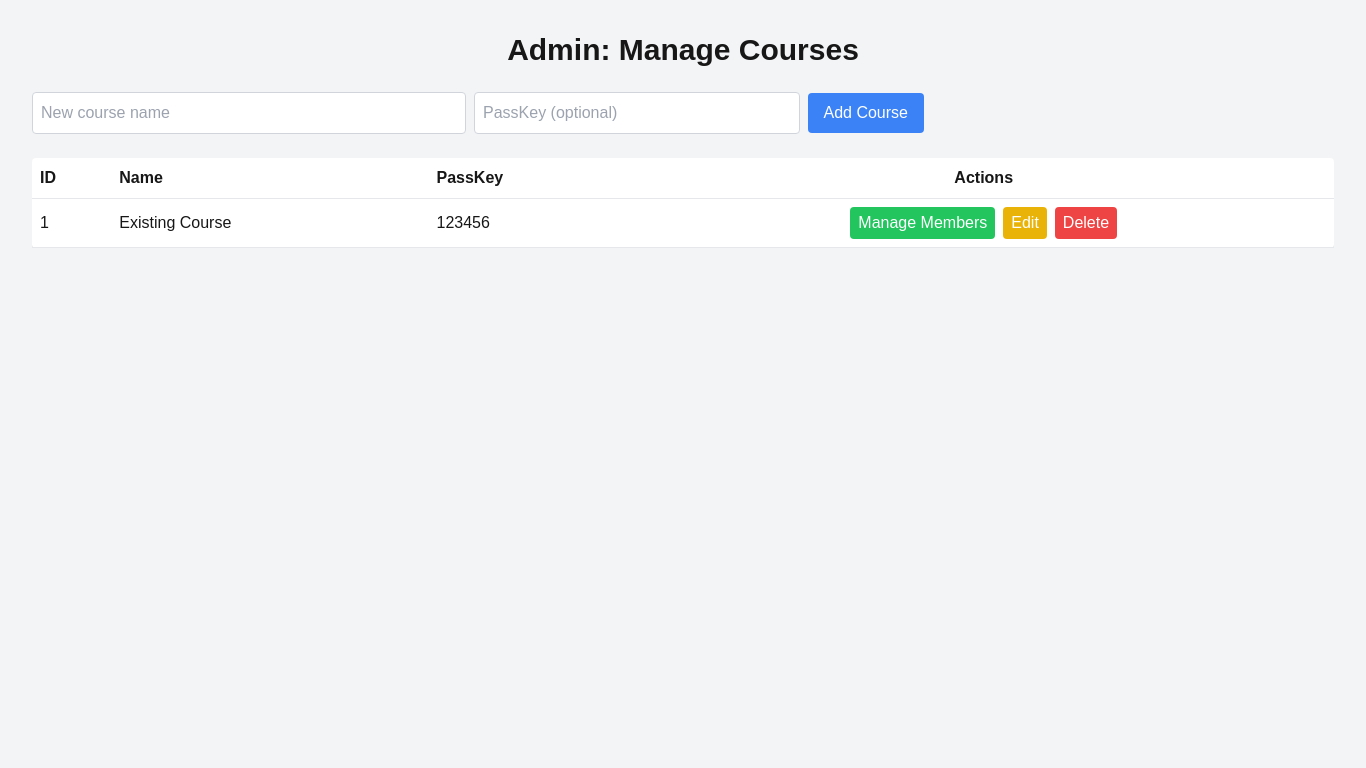
Test: AdminCoursesPage › opens edit modal and updates course
Expected: the text "Existing Course" is shown, [111,198,428,248]
# Open the edit modal
Click the button "Edit": (1025,223) [1003,207,1047,239]
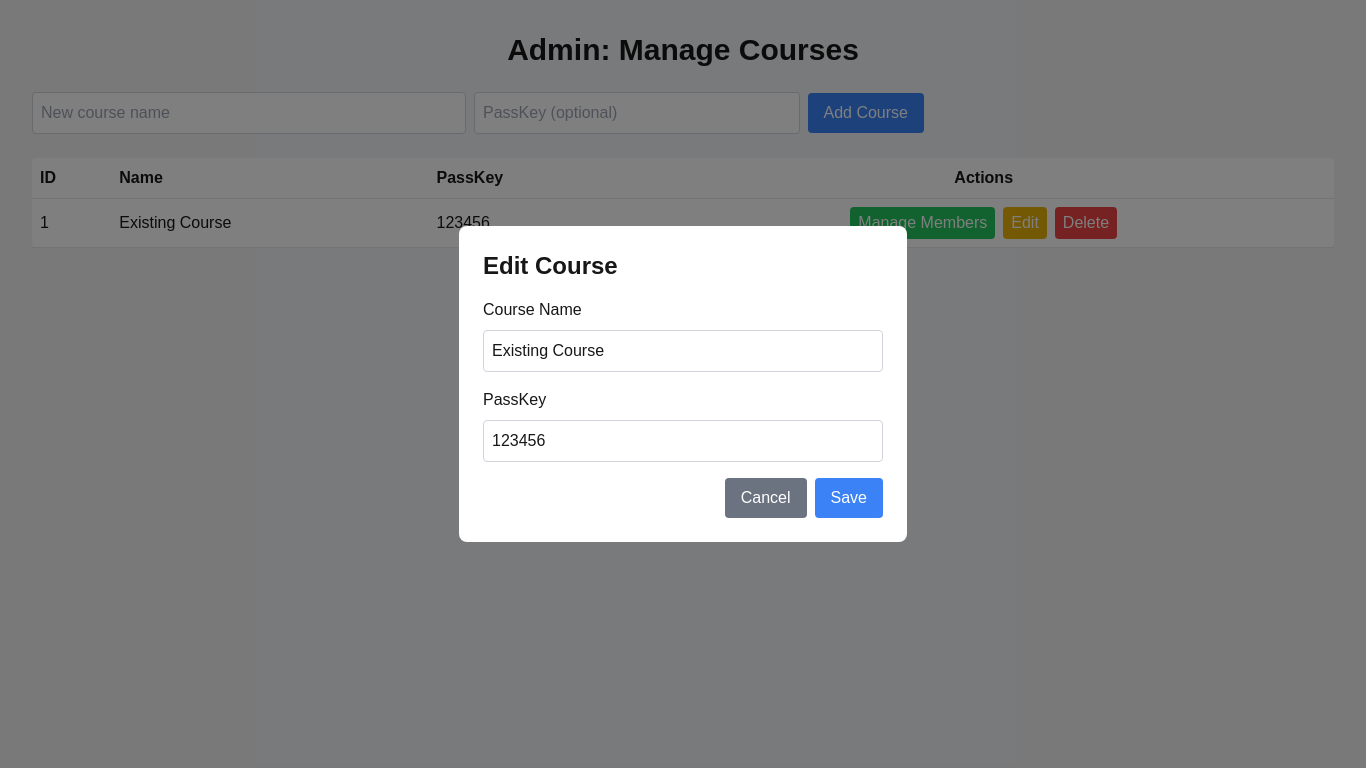
# Update course name and passkey within the modal
Replace the text in the field with placeholder "Course name" below "Course Name" with "Updated Course": (683,351) [483,330,883,372]
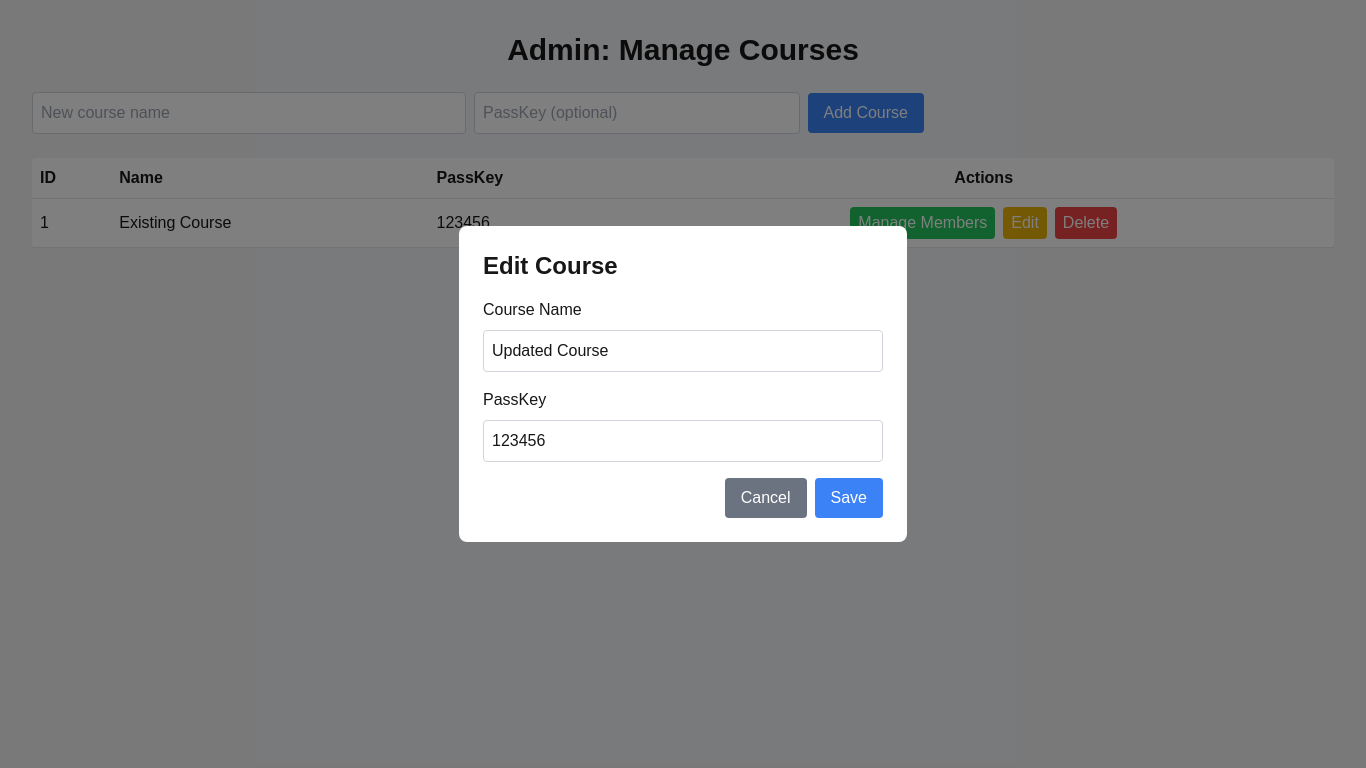
Replace the text in the 2nd field with placeholder "PassKey (optional)" with "654321": (683,441) [483,420,883,462]
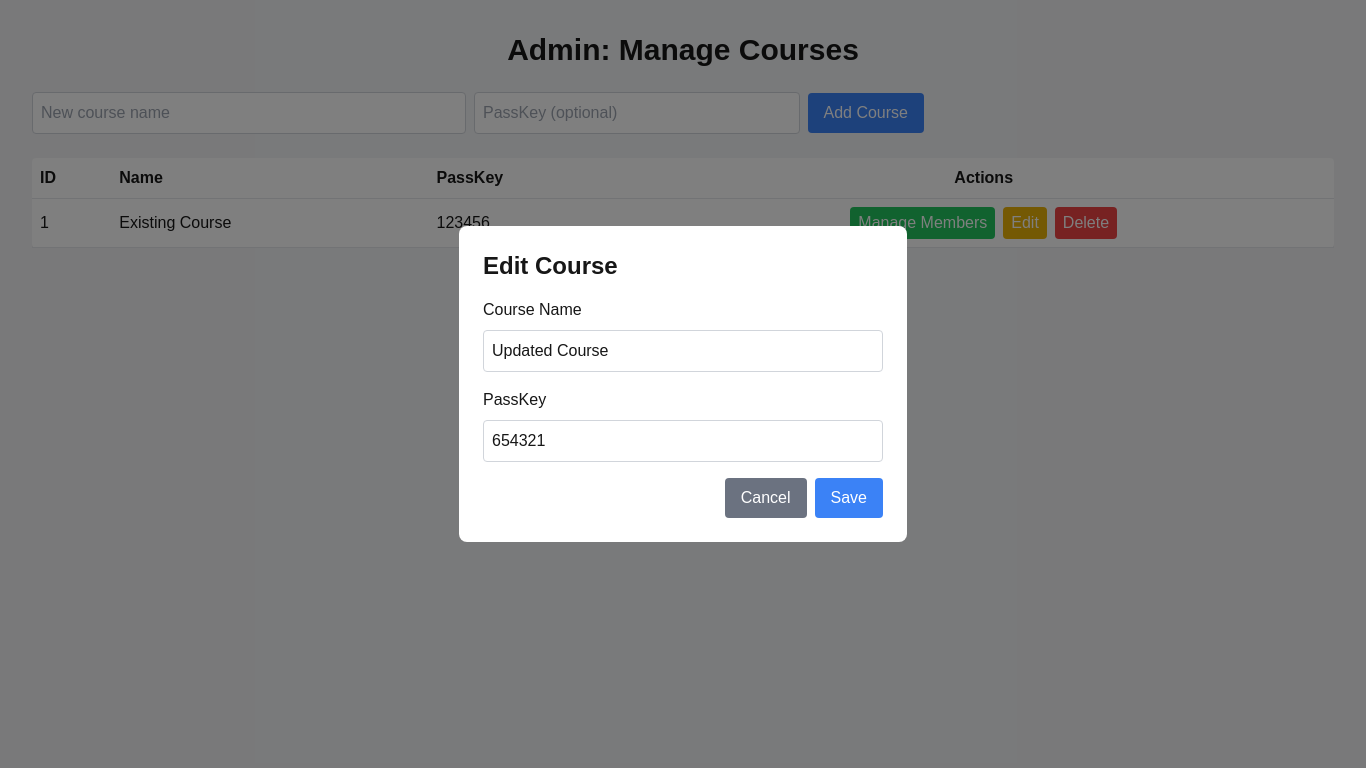
# Save the changes
Click the button "Save": (849,498) [814,478,883,518]
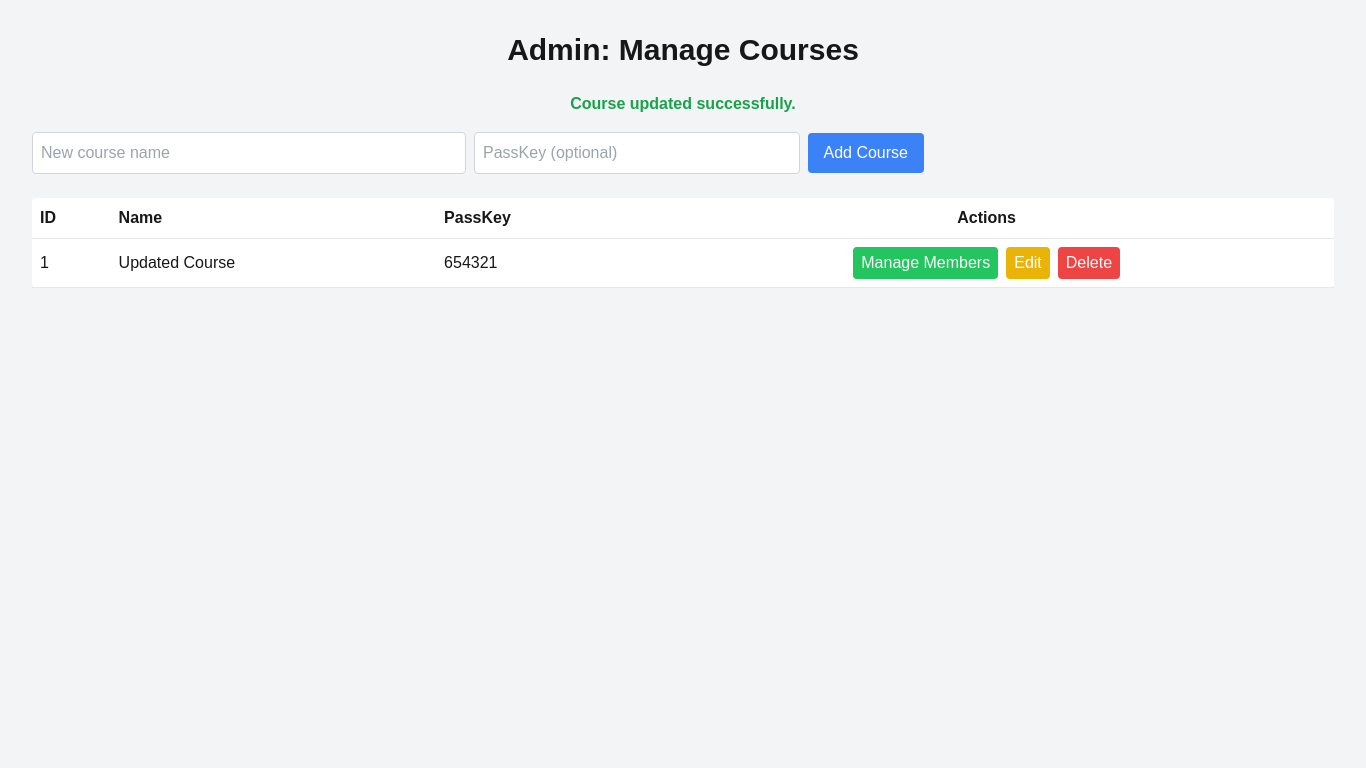
Expected: the text "Updated Course" is shown, [111,238,436,288]
